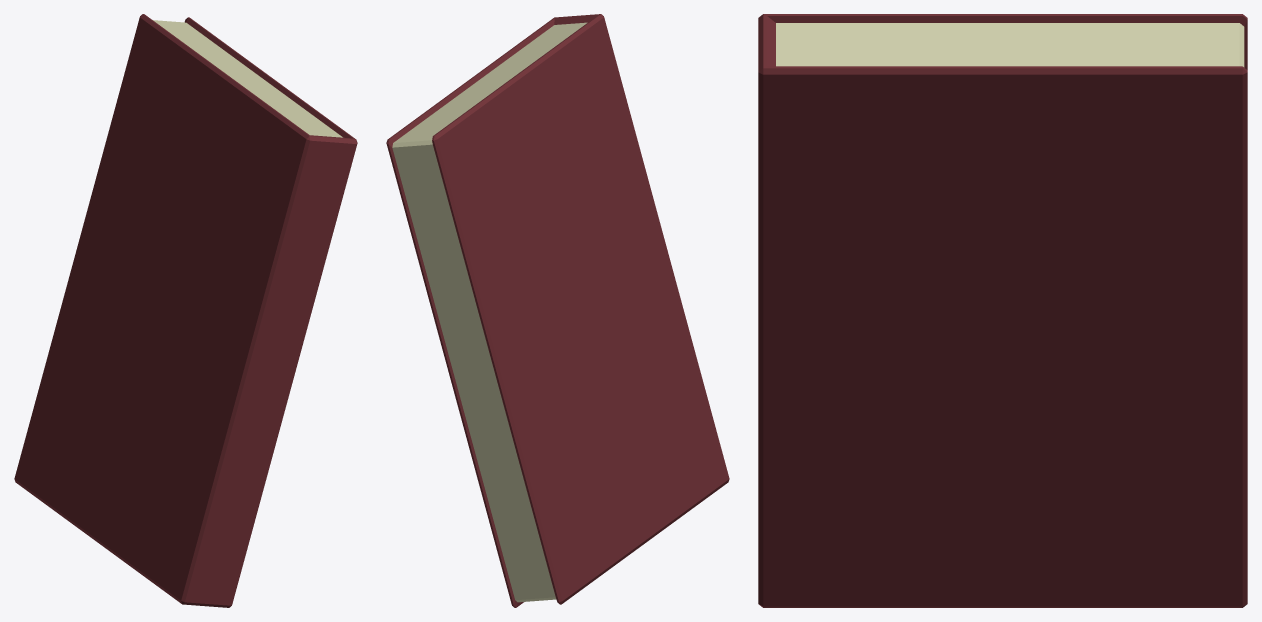
File: BOOK_02.fbx
The picture shows the model from 3 angles, left to right: view 1: azimuth 30°, elevation 25°; view 2: azimuth 150°, elevation 25°; view 3: azimuth 270°, elevation 25°; orthographic projection. The views are drawn at different scales.
Parts seen in each view (by area): view 1: BOOK_02; view 2: BOOK_02; view 3: BOOK_02.
Boxes of the visible parts, x1,y1,x2,y2 form: BOOK_02: [14, 14, 357, 607]; BOOK_02: [386, 14, 729, 607]; BOOK_02: [758, 14, 1247, 607].
Bounding box in the file's own units: 3.11 × 7.63 × 5.2.
